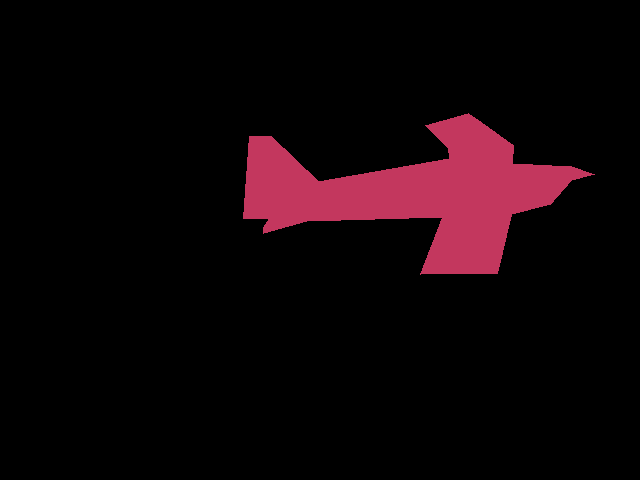Airplane: (243, 113, 594, 274)
